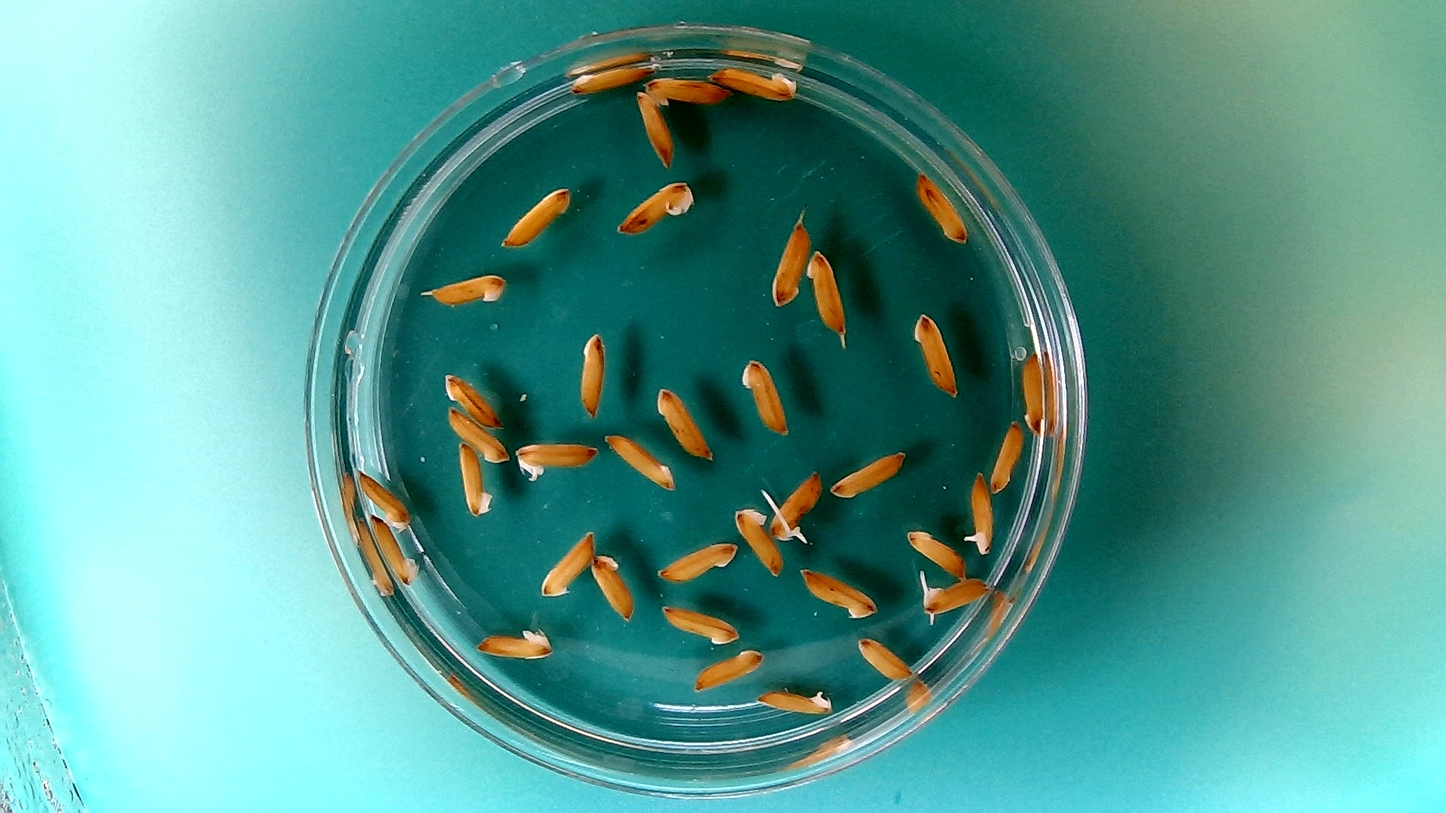no: (611, 177, 697, 238), (653, 382, 715, 461), (500, 184, 575, 249), (737, 354, 791, 439), (909, 310, 961, 398), (798, 565, 879, 620), (536, 527, 596, 601), (605, 430, 673, 494), (804, 248, 850, 340), (653, 537, 740, 585), (914, 169, 969, 244), (443, 403, 511, 463), (828, 447, 907, 498), (706, 62, 803, 103), (767, 217, 810, 309), (732, 503, 783, 580), (366, 513, 419, 586), (355, 467, 414, 531), (659, 601, 739, 647), (440, 371, 503, 429), (691, 644, 765, 693), (588, 549, 636, 623), (633, 87, 676, 169), (422, 269, 510, 309), (903, 526, 967, 578), (471, 625, 557, 662), (575, 327, 609, 418), (456, 441, 495, 520), (642, 73, 730, 107), (855, 633, 916, 681), (568, 61, 651, 96), (987, 418, 1023, 495), (752, 683, 834, 716), (1019, 346, 1046, 436)
yes: (511, 437, 601, 483), (770, 472, 825, 544), (915, 572, 991, 622), (964, 470, 996, 556)
